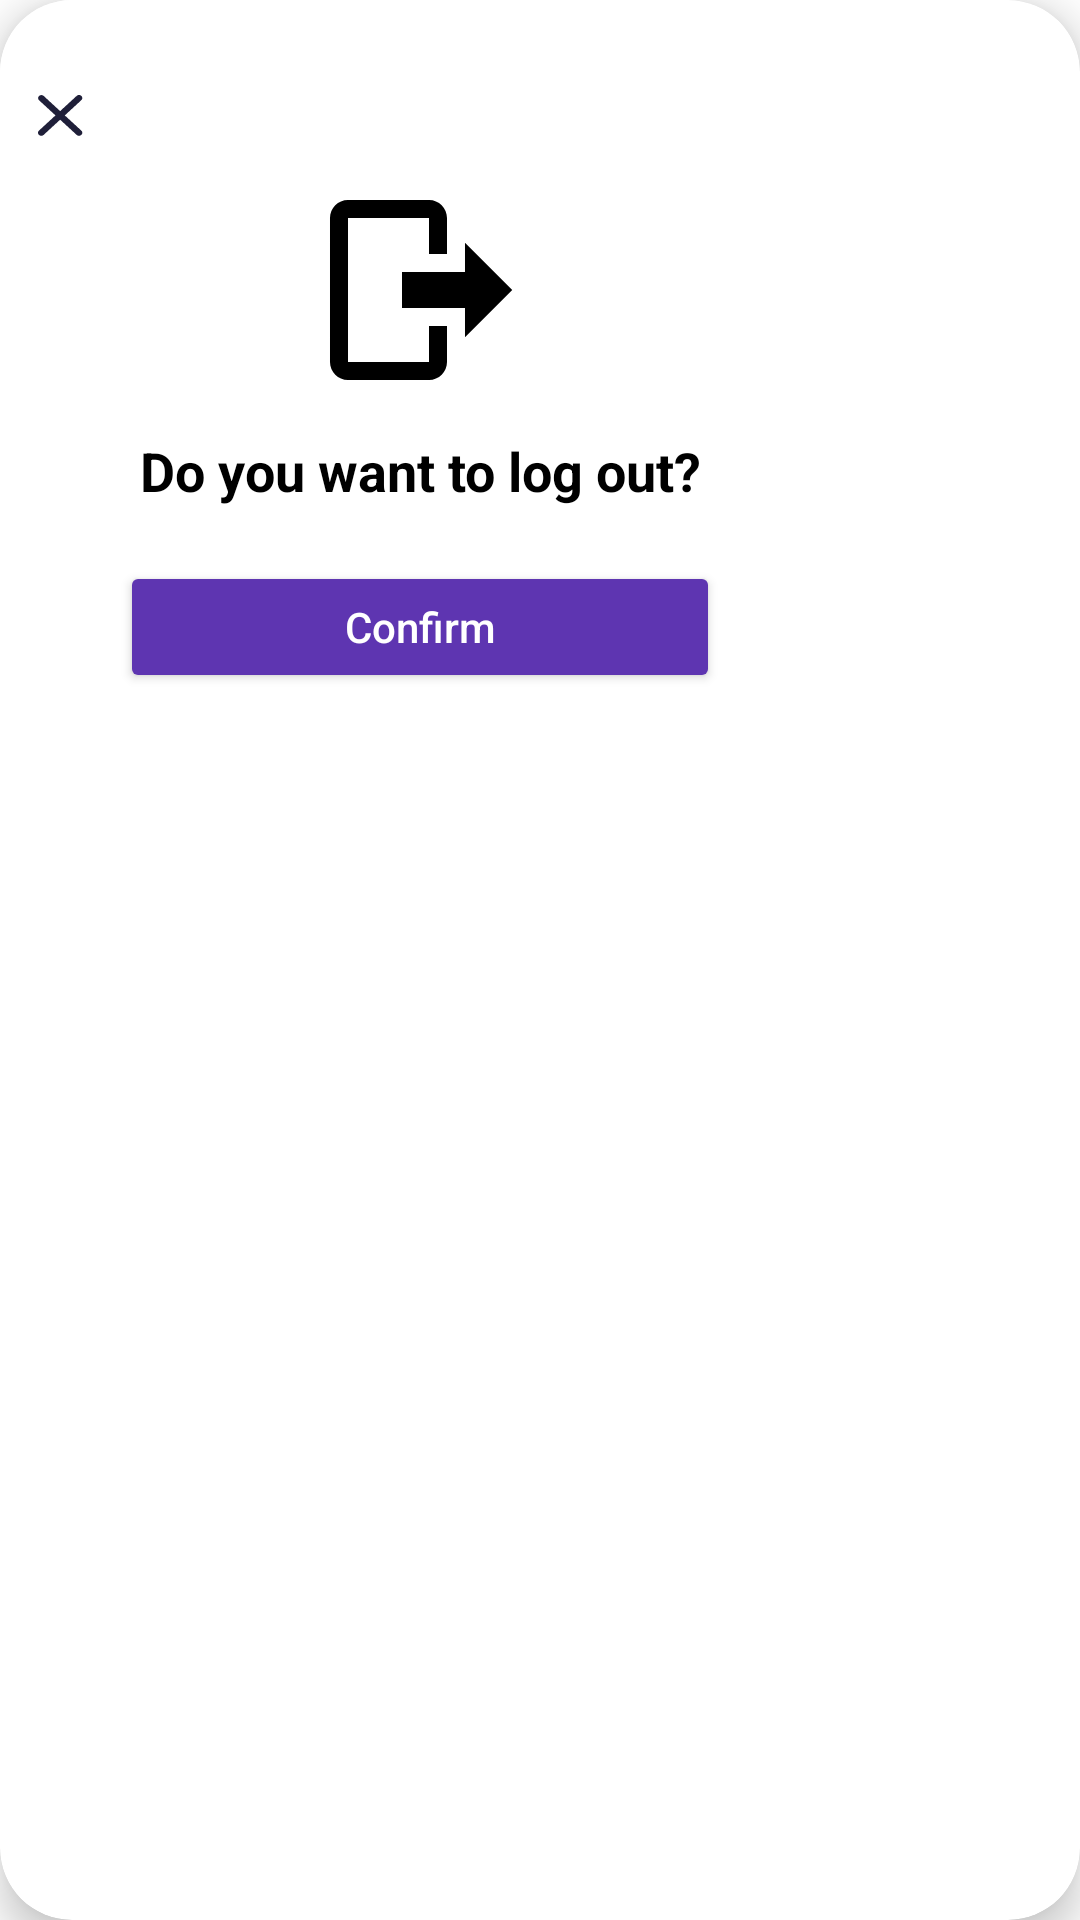

Icons on this 1080w x 1920h Android screen, each with its box as (x1, y1, x2, y2):
Close: (38, 95, 83, 136)
